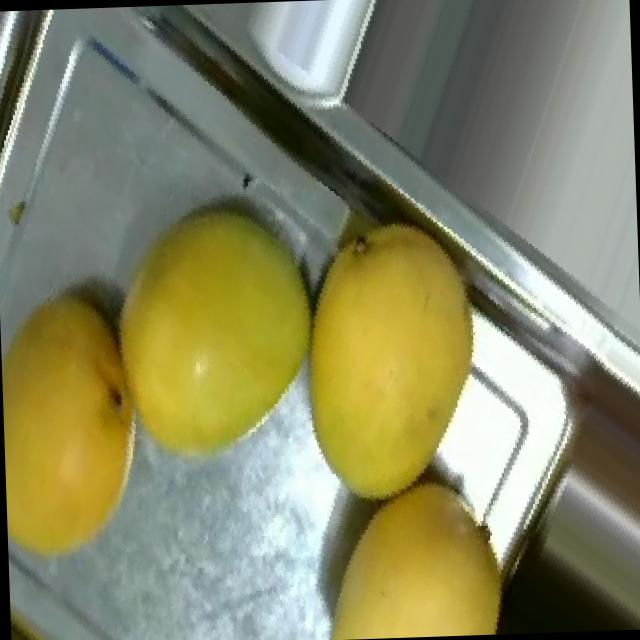fruit: (59, 152, 386, 510), (244, 181, 546, 538), (0, 240, 201, 594), (267, 452, 535, 640)
